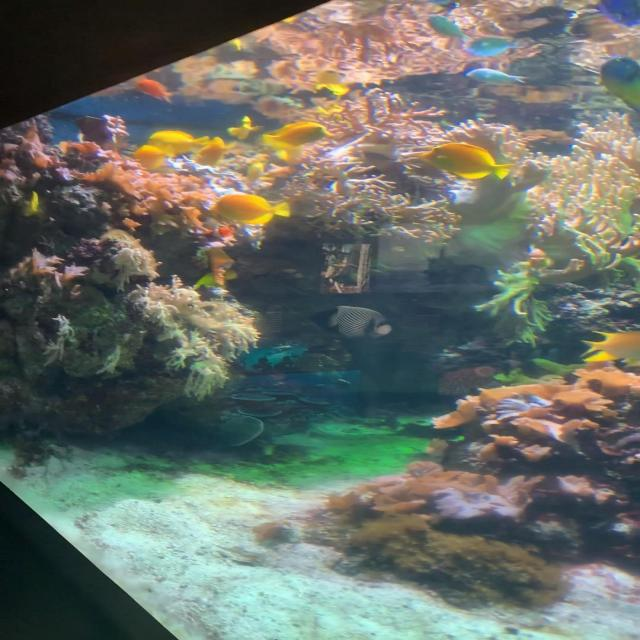fish: (420, 141, 518, 184), (206, 192, 291, 230), (308, 305, 395, 341), (263, 120, 338, 157), (578, 326, 640, 369), (597, 56, 640, 118), (200, 244, 247, 290), (147, 129, 209, 159), (192, 136, 234, 170), (133, 143, 176, 173), (226, 114, 269, 143), (462, 37, 520, 58), (426, 14, 469, 42), (466, 68, 526, 88), (311, 67, 346, 96), (138, 78, 174, 104)
